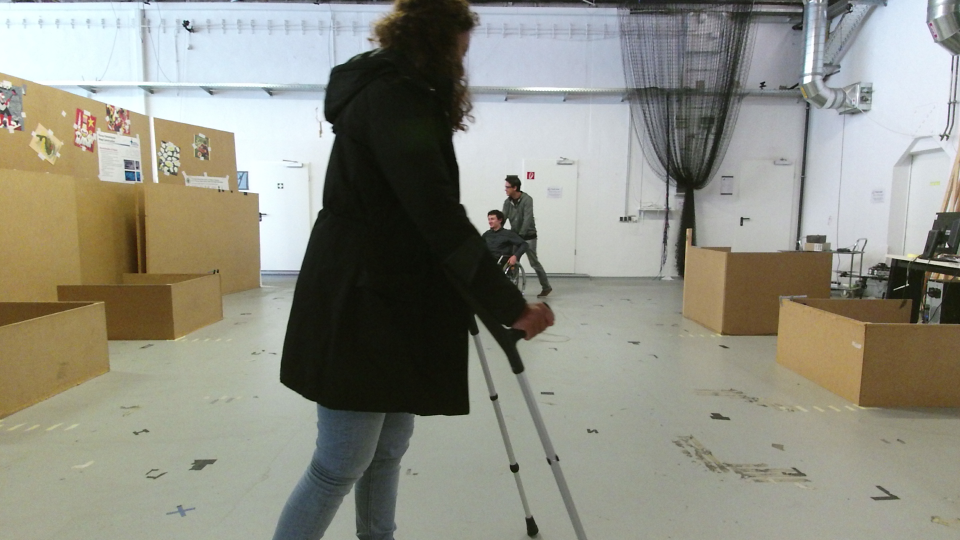crutches: (265, 1, 597, 540)
